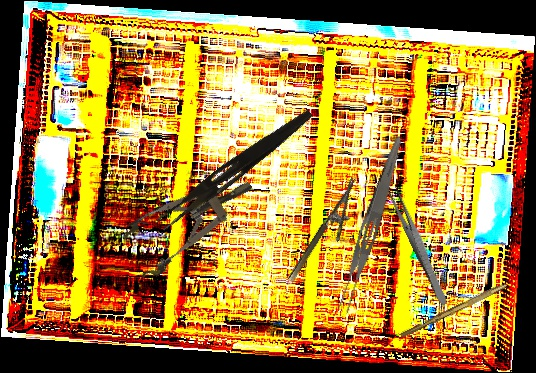Dressing Forceps: (155, 101, 315, 237), (333, 132, 407, 317), (385, 184, 452, 307)
Needle Holder: (286, 177, 372, 291)
Scalpel Handle: (399, 279, 508, 341)
Speculum: (115, 160, 267, 283)
